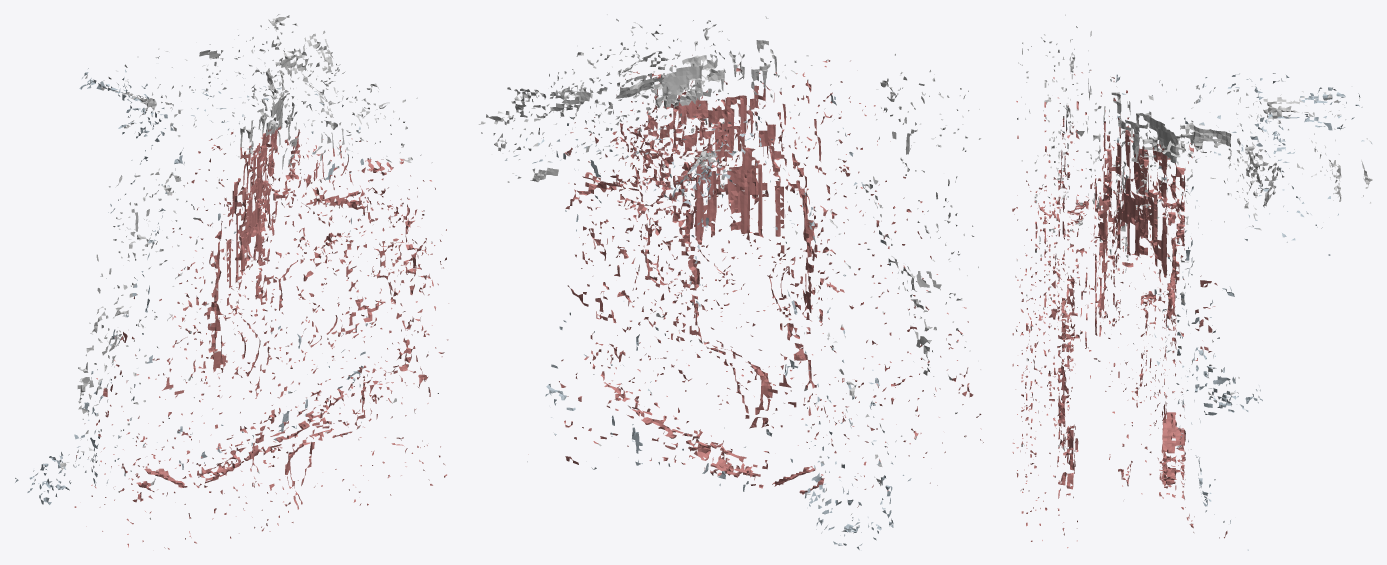
File: R1-뜬면-1__lt_dynnow_ALS_s0__removed.glb
3 renders of one model, left to right at view 1: azimuth 30°, elevation 25°; view 2: azimuth 150°, elevation 25°; view 3: azimuth 270°, elevation 25°, orthographic. The views are drawn at different scales.
Bounding box in the file's own units: 33.46 × 36.47 × 31.4.
